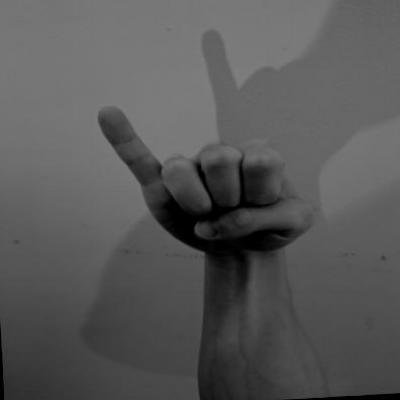hand: (92, 93, 322, 265)
